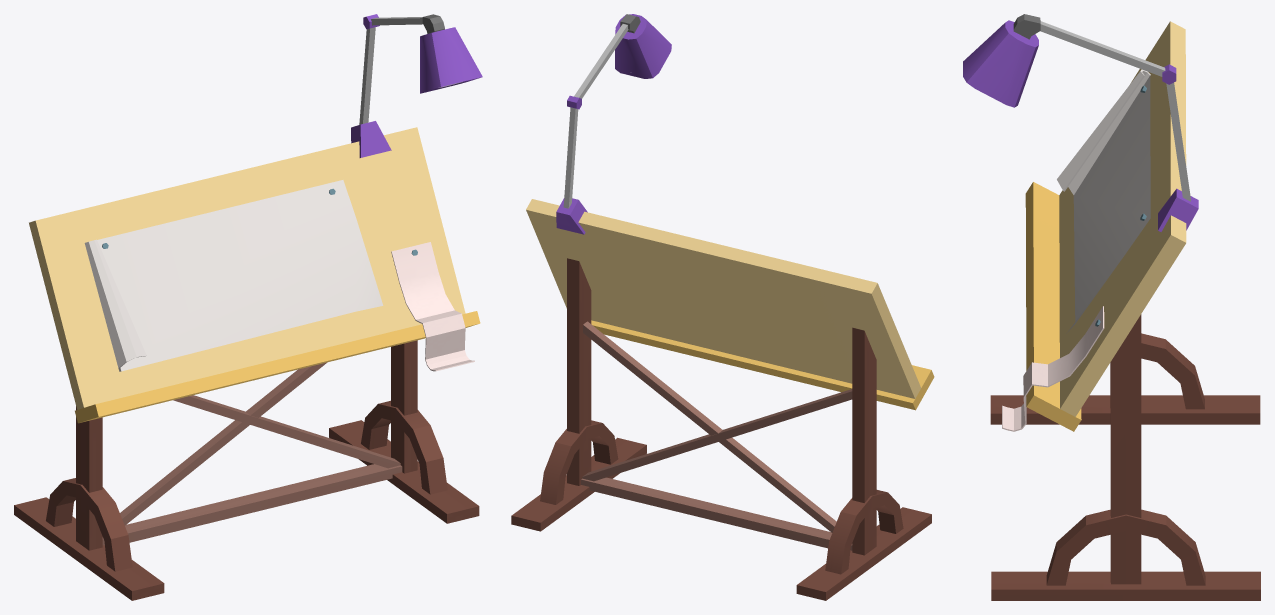
File: entertainment_006.glb
3 views of the same model, side by side, from view 1: azimuth 30°, elevation 25°; view 2: azimuth 150°, elevation 25°; view 3: azimuth 270°, elevation 25° (orthographic). The views are drawn at different scales.
Parts seen in each view (by area): view 1: entertainment_006; view 2: entertainment_006; view 3: entertainment_006.
Boxes of the visible parts, left/top/right/bottom form: entertainment_006: left=14, top=14, right=482, bottom=600; entertainment_006: left=511, top=14, right=934, bottom=600; entertainment_006: left=963, top=14, right=1260, bottom=600.
Bounding box in the file's own units: 1.22 × 1.51 × 0.7197.
Materials: 1 (1 with a texture image).
